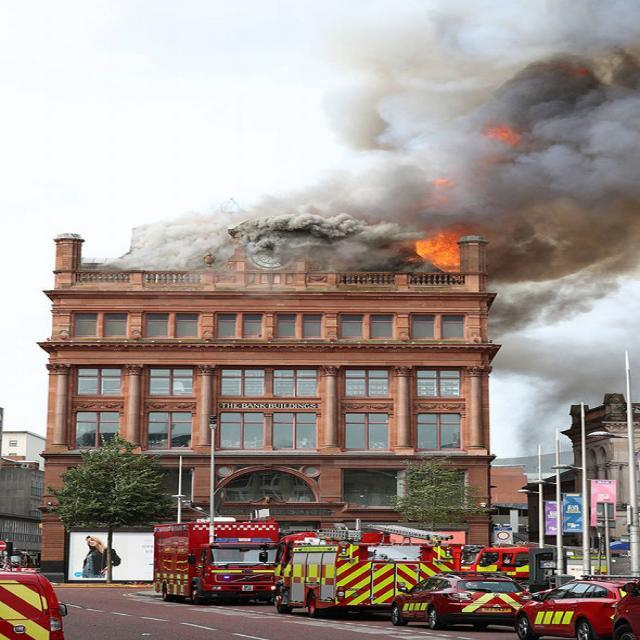Fire: (396, 206, 535, 294)
